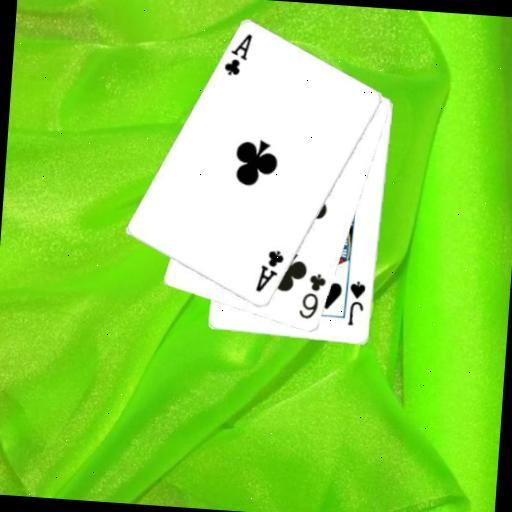6C: (296, 270, 329, 322)
AC: (252, 246, 287, 296), (221, 29, 255, 79)
JS: (345, 278, 369, 328)
